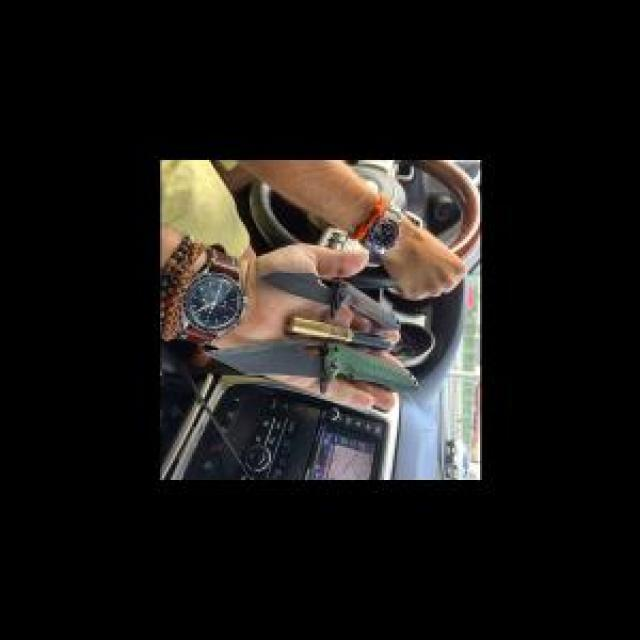knife: (200, 340, 426, 406), (256, 254, 412, 334)
